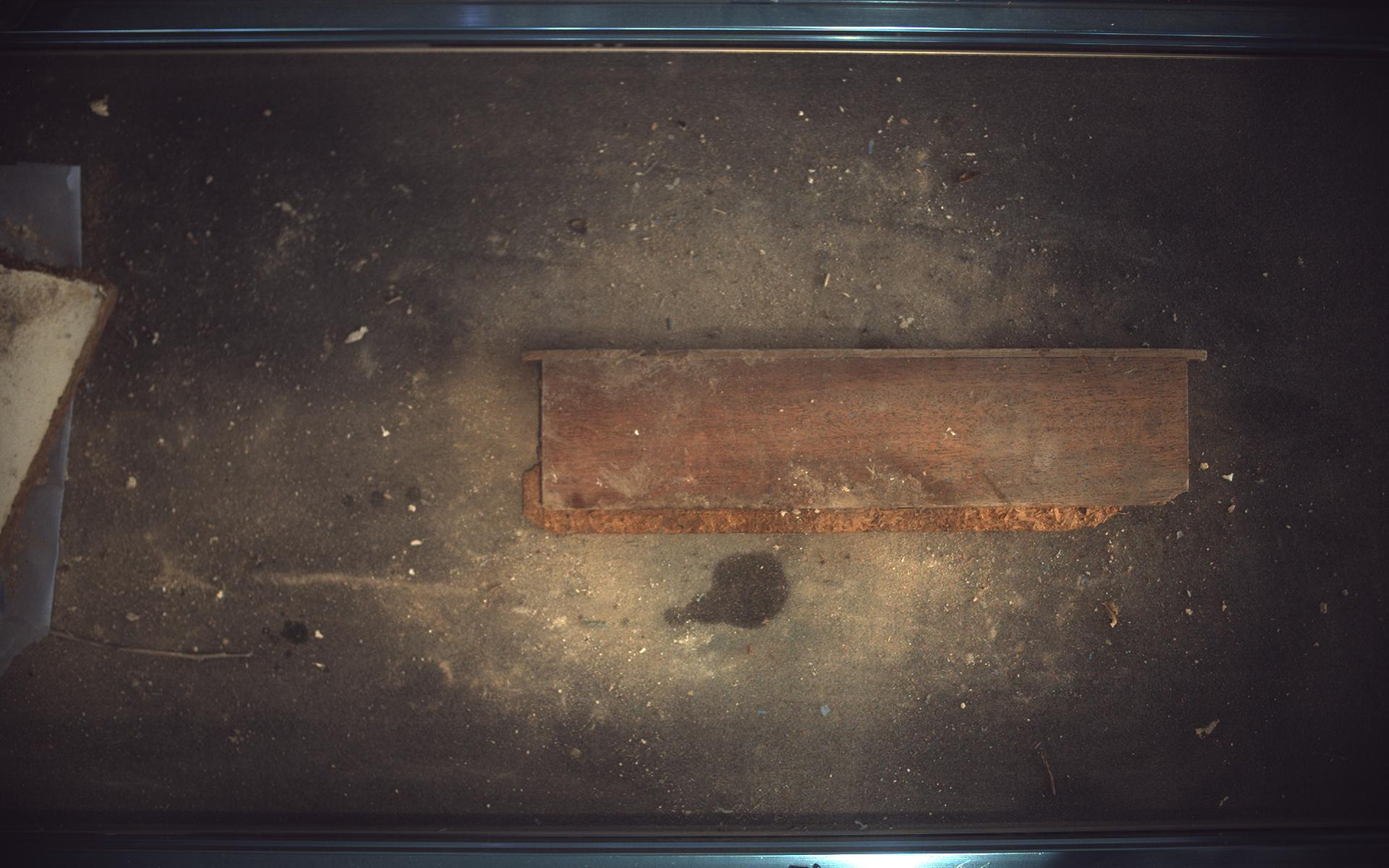wood: (525, 349, 1210, 534), (1, 263, 116, 547)
